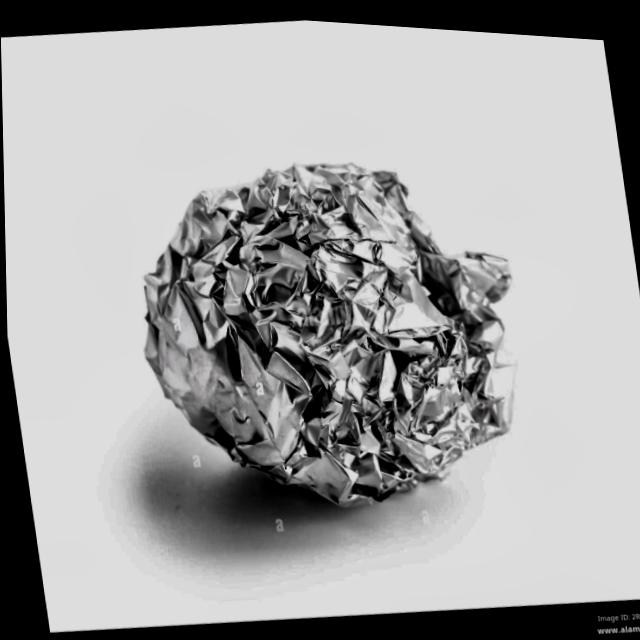Foil: (101, 101, 574, 553)
